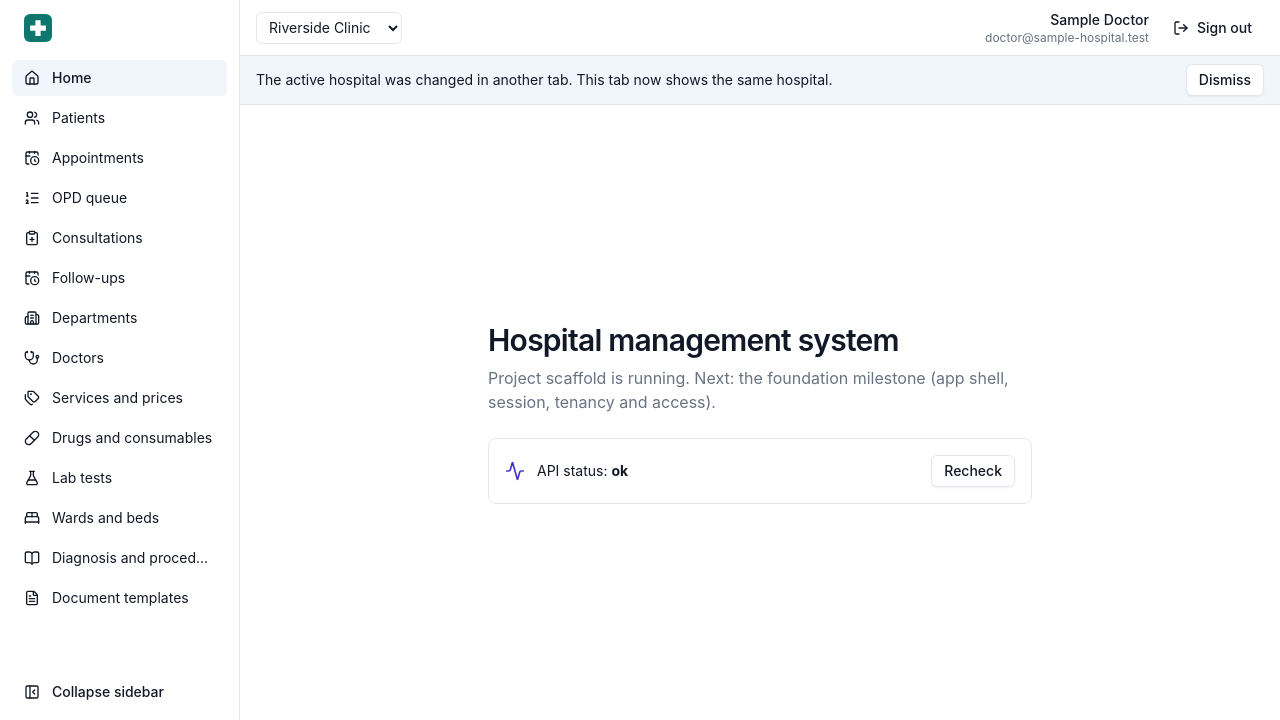
Test case: hospital changed in another tab › lets the user dismiss the notice
Expected: the heading "Hospital management system" is shown, top-left (488, 322), bottom-right (899, 358)
Expected: the dropdown named "Hospital" shows "Riverside Clinic", top-left (256, 12), bottom-right (402, 44)
Click the button "Dismiss" at [1225, 80], box top-left (1186, 64), bottom-right (1264, 96)
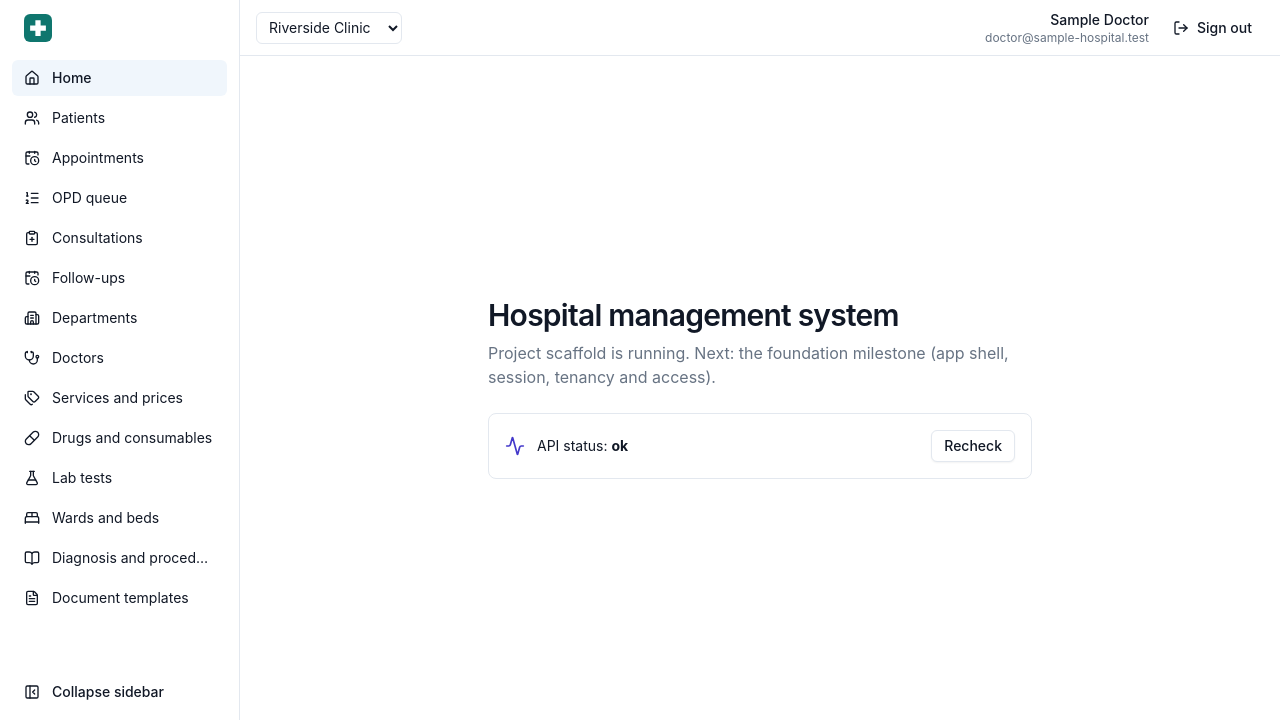
Expected: the text "changed in another tab" is gone
